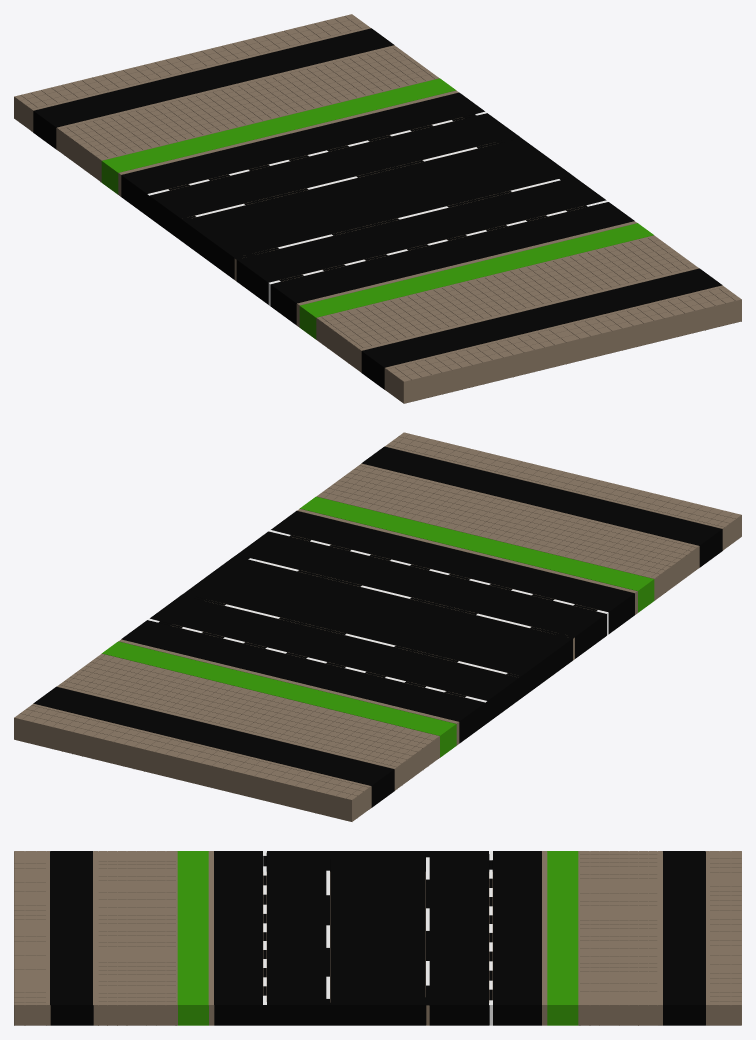
Rendered from Indo.fbx.
3 views of the same model, one above another, from view 1: azimuth 30°, elevation 25°; view 2: azimuth 150°, elevation 25°; view 3: azimuth 270°, elevation 25° (orthographic). The views are drawn at different scales.
Visible parts, largest first — view 1: Cube.003; view 2: Cube.003; view 3: Cube.003.
Part boxes in pixels (x1,y1,x2,y2): Cube.003: [14, 14, 741, 403]; Cube.003: [14, 432, 741, 821]; Cube.003: [14, 851, 741, 1025].
Size of the model in its own units: 998 by 31.82 by 500.
